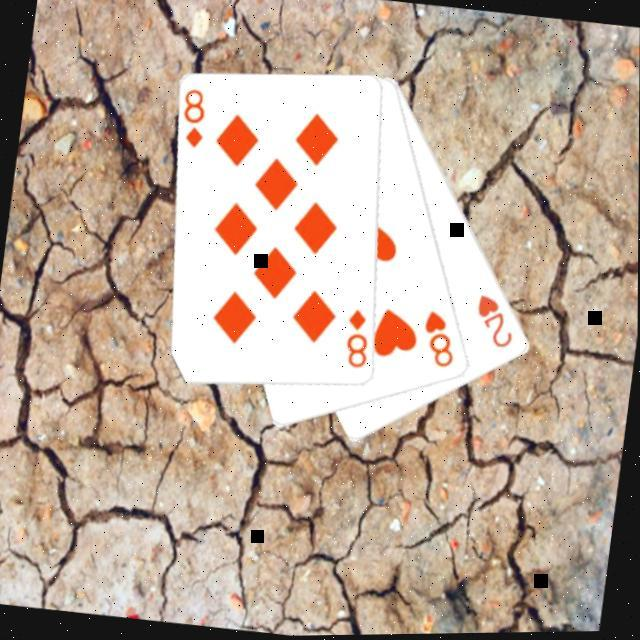2H: (471, 293, 522, 356)
8D: (341, 308, 377, 375), (177, 87, 213, 154)
8H: (418, 309, 463, 376)
